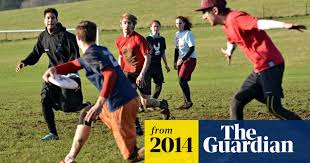disc: (46, 73, 79, 90)
